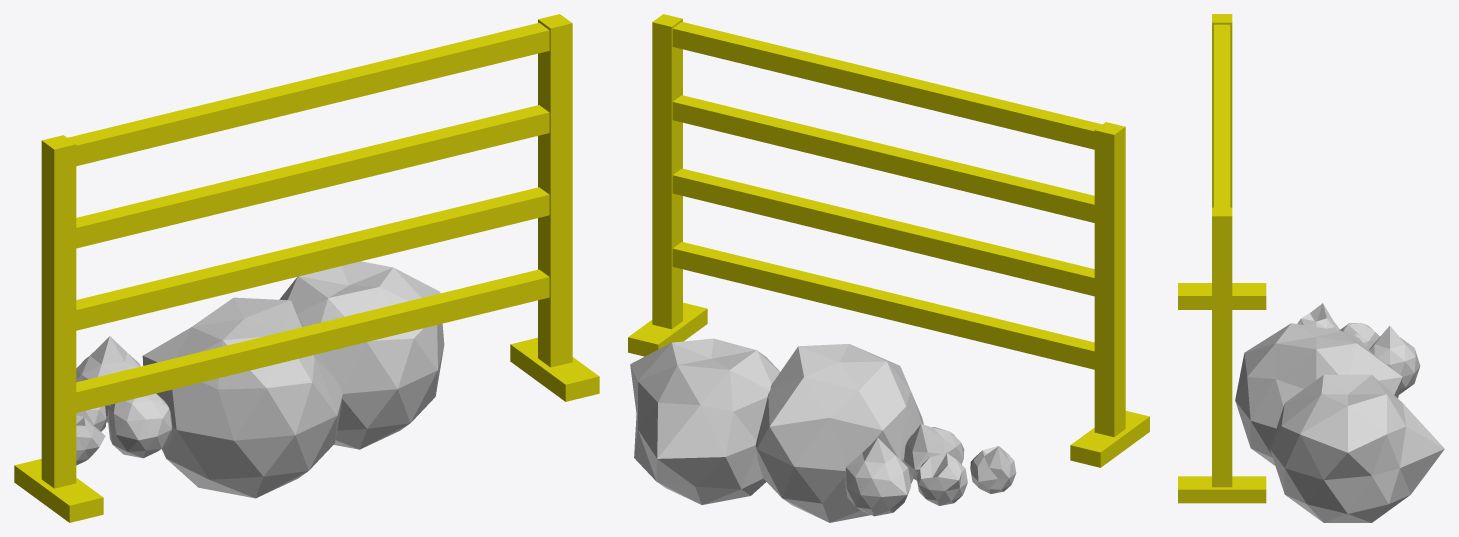
Rendered from Valla Piedra.fbx.
The picture shows the model from 3 angles, left to right: view 1: azimuth 30°, elevation 25°; view 2: azimuth 150°, elevation 25°; view 3: azimuth 270°, elevation 25°; orthographic projection. The views are drawn at different scales.
Visible parts, largest first — view 1: Cube.002, Icosphere.001, Icosphere, Cube, Cube.001, Icosphere.002, Cube.004, Cube.003, Icosphere.005, Icosphere.003; view 2: Cube.002, Icosphere.001, Icosphere, Cube, Cube.001, Icosphere.005, Cube.003, Icosphere.004, Cube.004, Icosphere.002, Icosphere.003; view 3: Icosphere, Icosphere.001, Cube.001, Cube.002, Cube.004, Cube.003, Icosphere.005, Cube, Icosphere.003, Icosphere.004.
Boxes of the visible parts, left/top/right/bottom form: Cube.002: left=67, top=23, right=549, bottom=412; Icosphere.001: left=142, top=297, right=342, bottom=498; Icosphere: left=279, top=261, right=444, bottom=449; Cube: left=41, top=135, right=76, bottom=488; Cube.001: left=538, top=14, right=572, bottom=367; Icosphere.002: left=107, top=393, right=172, bottom=458; Cube.004: left=510, top=337, right=599, bottom=401; Cube.003: left=14, top=459, right=103, bottom=522; Icosphere.005: left=76, top=336, right=140, bottom=422; Icosphere.003: left=76, top=415, right=105, bottom=465; Cube.002: left=672, top=22, right=1102, bottom=369; Icosphere.001: left=755, top=344, right=923, bottom=522; Icosphere: left=630, top=338, right=779, bottom=504; Cube: left=1094, top=122, right=1125, bottom=437; Cube.001: left=652, top=14, right=682, bottom=329; Icosphere.005: left=844, top=438, right=911, bottom=516; Cube.003: left=1070, top=410, right=1149, bottom=467; Icosphere.004: left=916, top=453, right=967, bottom=505; Cube.004: left=628, top=302, right=707, bottom=356; Icosphere.002: left=904, top=424, right=964, bottom=480; Icosphere.003: left=970, top=446, right=1016, bottom=493; Icosphere: left=1270, top=374, right=1444, bottom=522; Icosphere.001: left=1235, top=323, right=1402, bottom=465; Cube.001: left=1212, top=207, right=1232, bottom=487; Cube.002: left=1214, top=24, right=1230, bottom=207; Cube.004: left=1178, top=476, right=1266, bottom=503; Cube.003: left=1178, top=283, right=1266, bottom=309; Icosphere.005: left=1369, top=326, right=1420, bottom=394; Cube: left=1212, top=14, right=1232, bottom=207; Icosphere.003: left=1297, top=303, right=1339, bottom=330; Icosphere.004: left=1339, top=323, right=1380, bottom=349.
Size of the model in its own units: 475 by 386 by 259.
